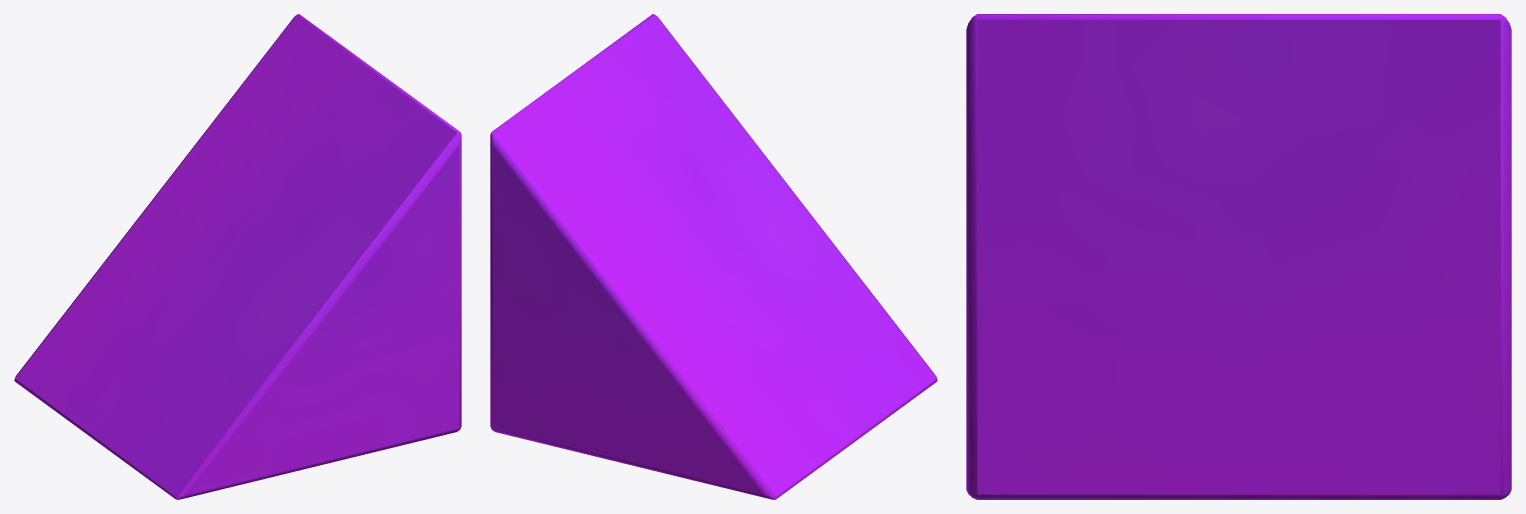
File: WedgePink.fbx
3 views of the same model, side by side, from view 1: azimuth 30°, elevation 25°; view 2: azimuth 150°, elevation 25°; view 3: azimuth 270°, elevation 25° (orthographic). The views are drawn at different scales.
Visible parts, largest first — view 1: Wedge; view 2: Wedge; view 3: Wedge.
Boxes of the visible parts, x1,y1,x2,y2 form: Wedge: [14, 14, 461, 499]; Wedge: [490, 14, 937, 499]; Wedge: [966, 14, 1511, 499].
Bounding box in the file's own units: 1.97 × 1.97 × 2.
